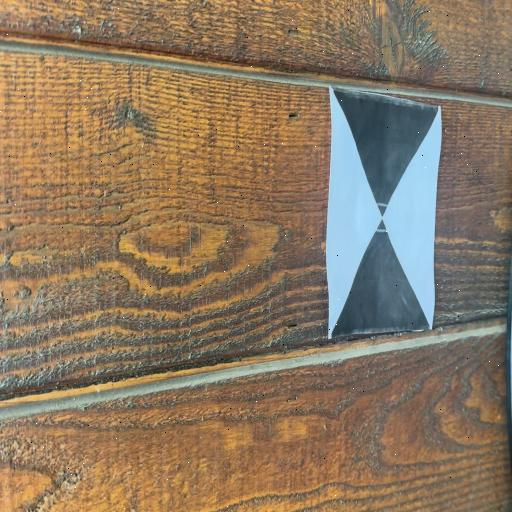target: (330, 88, 442, 337)
